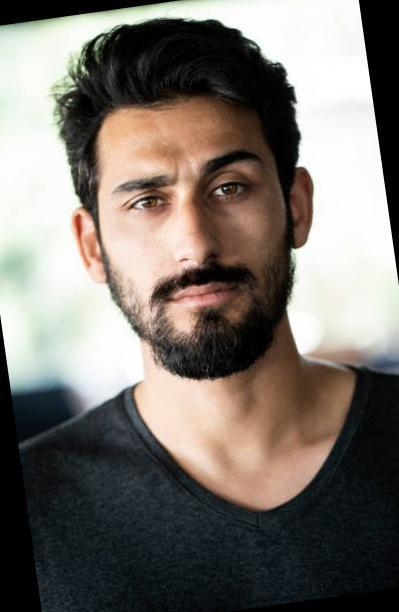Sober: (97, 118, 273, 339)
